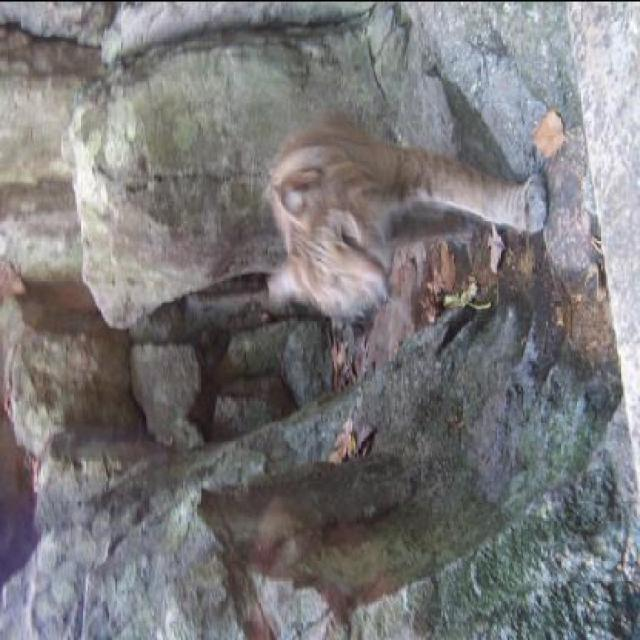Lion: (242, 43, 638, 348)
